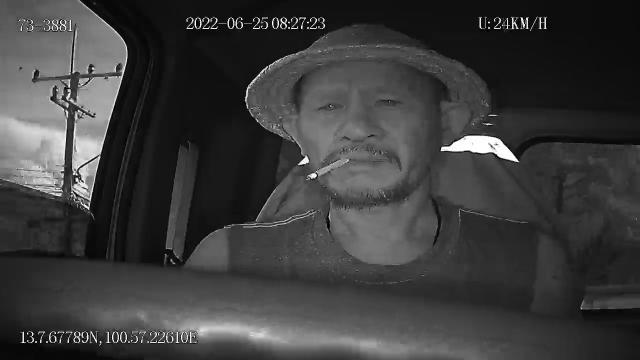SafeDriving: (369, 89, 408, 112), (311, 93, 349, 116)
Smoking: (306, 155, 352, 181)
